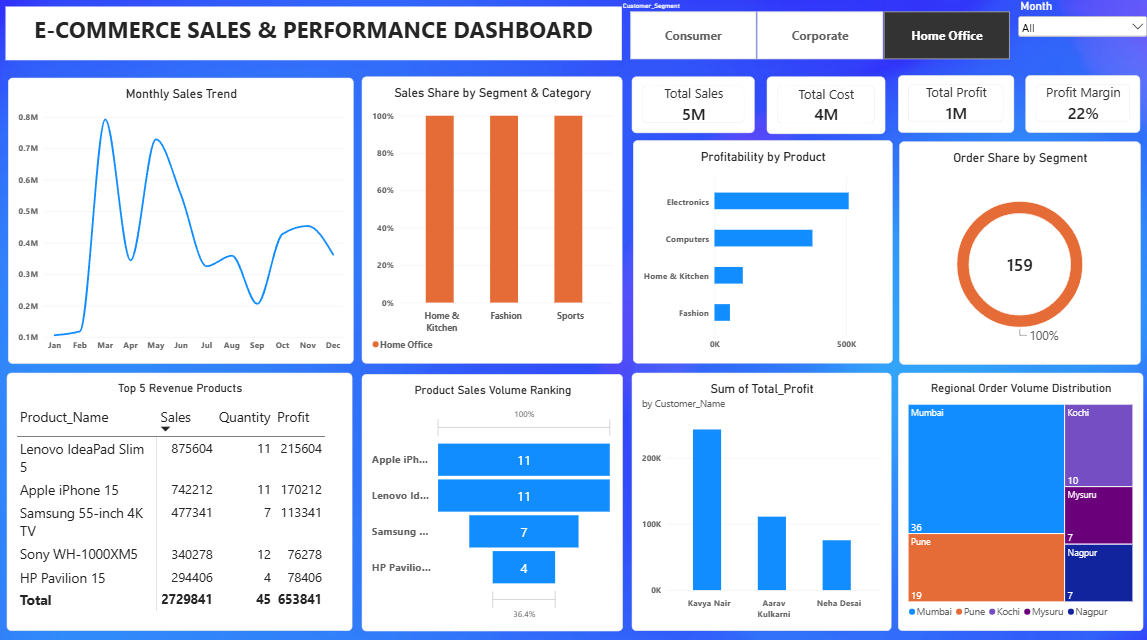

This screenshot's page, from the dashboard's own definition file:
{"tool":"powerbi","page":{"name":"Page 1","canvas":[1920,1080],"ordinal":0},"visuals":[{"type":"cardVisual","fields":{"Data":["Sum(Orders.Total_Sales)"]},"box":[1056.5,128.3,205,94],"z":0},{"type":"cardVisual","fields":{"Data":["Avg(Orders.Profit_Margin)"]},"box":[1713,126.1,191.3,95.7],"z":1000},{"type":"cardVisual","fields":{"Data":["Sum(Orders.Total_Cost)"]},"box":[1280.4,128.3,197.8,95.7],"z":2000},{"type":"cardVisual","fields":{"Data":["Sum(Orders.Total_Profit)"]},"box":[1500,126.1,193.5,95.7],"z":3000},{"type":"lineChart","title":"Monthly Sales Trend","fields":{"Category":["Date_Table.Month"],"Y":["Sum(Orders.Total_Sales)"]},"box":[17.4,130.4,576.1,477],"z":4000},{"type":"clusteredBarChart","title":"Profitability by Product","fields":{"Category":["Products.Category"],"Y":["Sum(Orders.Total_Profit)"]},"box":[1058.7,234.8,432.6,371.7],"z":5000},{"type":"donutChart","title":"Order Share by Segment","fields":{"Category":["Customers.Customer_Segment"],"Y":["CountNonNull(Orders.Order_ID)"]},"box":[1502.2,237,402.2,371.7],"z":6000},{"type":"clusteredColumnChart","fields":{"Category":["Customers.Customer_Name"],"Y":["Sum(Orders.Total_Profit)"]},"box":[1056.5,623.9,432.6,430.4],"z":7000},{"type":"slicer","fields":{"Values":["Date_Table.Month"]},"box":[1696.1,12.3,223.9,97.8],"z":8000},{"type":"pivotTable","title":"Top 5 Revenue Products","fields":{"Rows":["Products.Product_Name"],"Values":["Sum(Orders.Total_Sales)","Orders.Total Quantity","Sum(Orders.Total_Profit)"]},"box":[15.2,623.9,576.1,430.4],"z":9000},{"type":"hundredPercentStackedColumnChart","title":"Sales Share by Segment & Category","fields":{"Category":["Products.Category"],"Series":["Customers.Customer_Segment"],"Y":["Sum(Orders.Total_Sales)"]},"box":[606.5,128.3,434.8,478.3],"z":10000},{"type":"funnel","title":"Product Sales Volume Ranking","fields":{"Category":["Products.Product_Name"],"Y":["Orders.Total Quantity"]},"box":[606.7,624.4,435.6,428.9],"z":11000},{"type":"treemap","title":"Regional Order Volume Distribution","fields":{"Group":["Customers.City"],"Values":["Sum(Orders.Quantity)"]},"box":[1500,623.9,408.7,430.4],"z":12000},{"type":"slicer","fields":{"Values":["Customers.Customer_Segment"]},"box":[1033.3,4.2,671.7,97.8],"z":13000},{"type":"textbox","box":[12.5,12.5,1027.1,89.6],"z":16000}]}

Visuals, with their boxes in screenshot pixels (x1, y1, x2, y2), scaled from the page's 1920x1080 canvas onto the 1147x640 screenshot:
cardVisual - Sum(Orders.Total_Sales): BBox(631, 76, 754, 132)
cardVisual - Avg(Orders.Profit_Margin): BBox(1023, 75, 1138, 131)
cardVisual - Sum(Orders.Total_Cost): BBox(765, 76, 883, 133)
cardVisual - Sum(Orders.Total_Profit): BBox(896, 75, 1012, 131)
"Monthly Sales Trend" lineChart: BBox(10, 77, 355, 360)
"Profitability by Product" clusteredBarChart: BBox(632, 139, 891, 359)
"Order Share by Segment" donutChart: BBox(897, 140, 1138, 361)
clusteredColumnChart - Customers.Customer_Name x Sum(Orders.Total_Profit): BBox(631, 370, 890, 625)
slicer - Date_Table.Month: BBox(1013, 7, 1146, 65)
"Top 5 Revenue Products" pivotTable: BBox(9, 370, 353, 625)
"Sales Share by Segment & Category" hundredPercentStackedColumnChart: BBox(362, 76, 622, 359)
"Product Sales Volume Ranking" funnel: BBox(362, 370, 623, 624)
"Regional Order Volume Distribution" treemap: BBox(896, 370, 1140, 625)
slicer - Customers.Customer_Segment: BBox(617, 2, 1019, 60)
textbox: BBox(7, 7, 621, 61)
